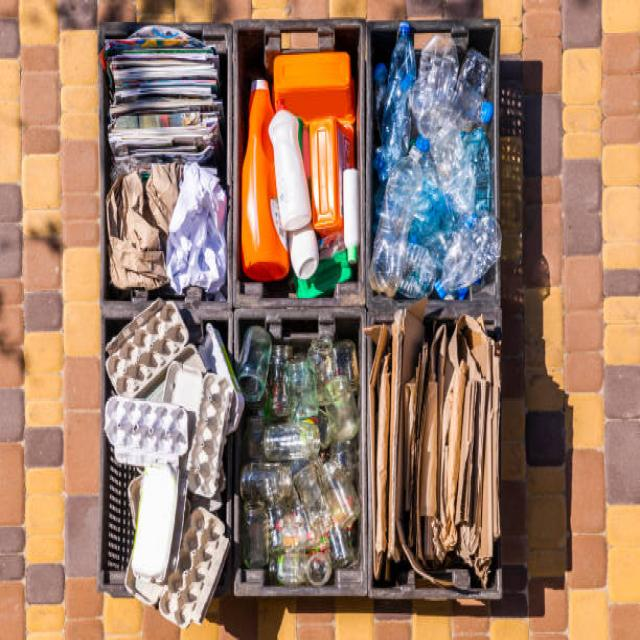cardboard: (106, 298, 224, 599), (371, 317, 500, 568)
glass: (242, 314, 352, 577)
paper: (110, 63, 232, 290)
plastic: (248, 50, 360, 282), (377, 41, 479, 265)
